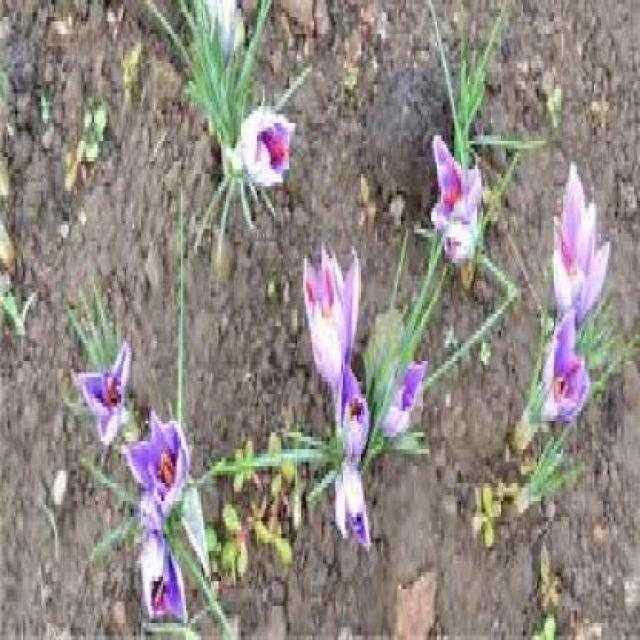Flower: (547, 152, 616, 320), (299, 223, 366, 394), (124, 404, 201, 525), (428, 139, 488, 270), (75, 331, 137, 442), (130, 522, 188, 613), (234, 112, 300, 188), (545, 318, 592, 424)
stigma: (254, 125, 296, 166), (442, 165, 472, 211), (152, 451, 180, 491)
